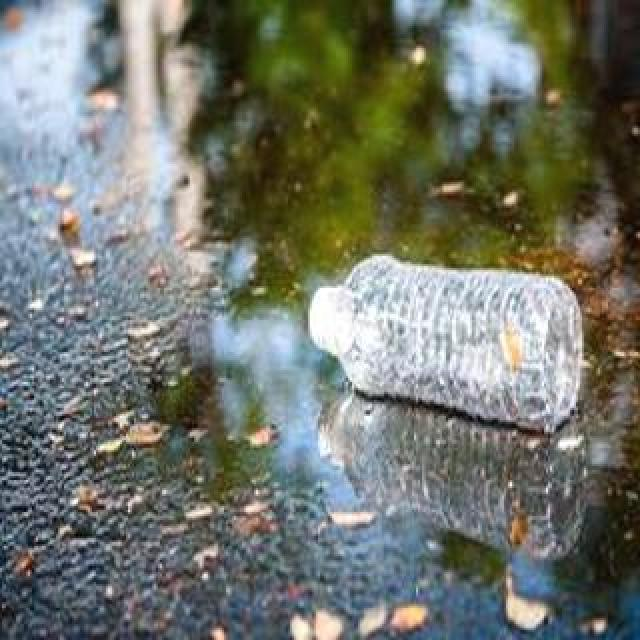Pet_Bottle: (306, 253, 584, 435)
